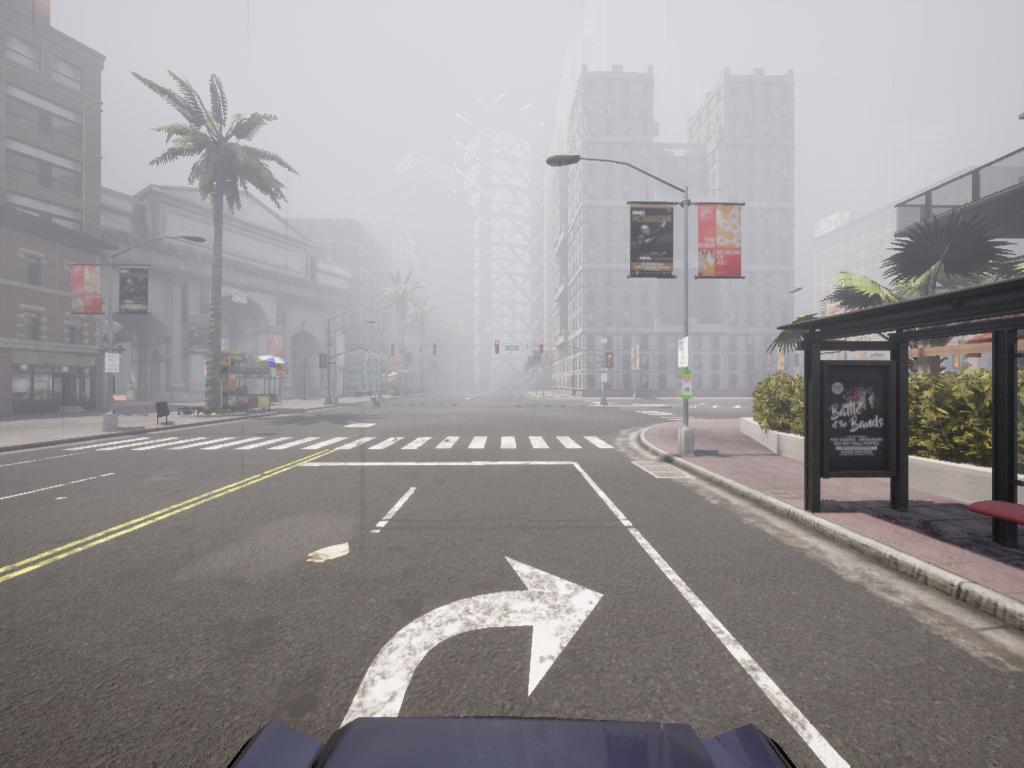traffic_light: (607, 353, 614, 370), (540, 342, 545, 357), (496, 340, 501, 355), (391, 344, 396, 358), (366, 350, 371, 364), (433, 344, 438, 356), (526, 344, 530, 354)
